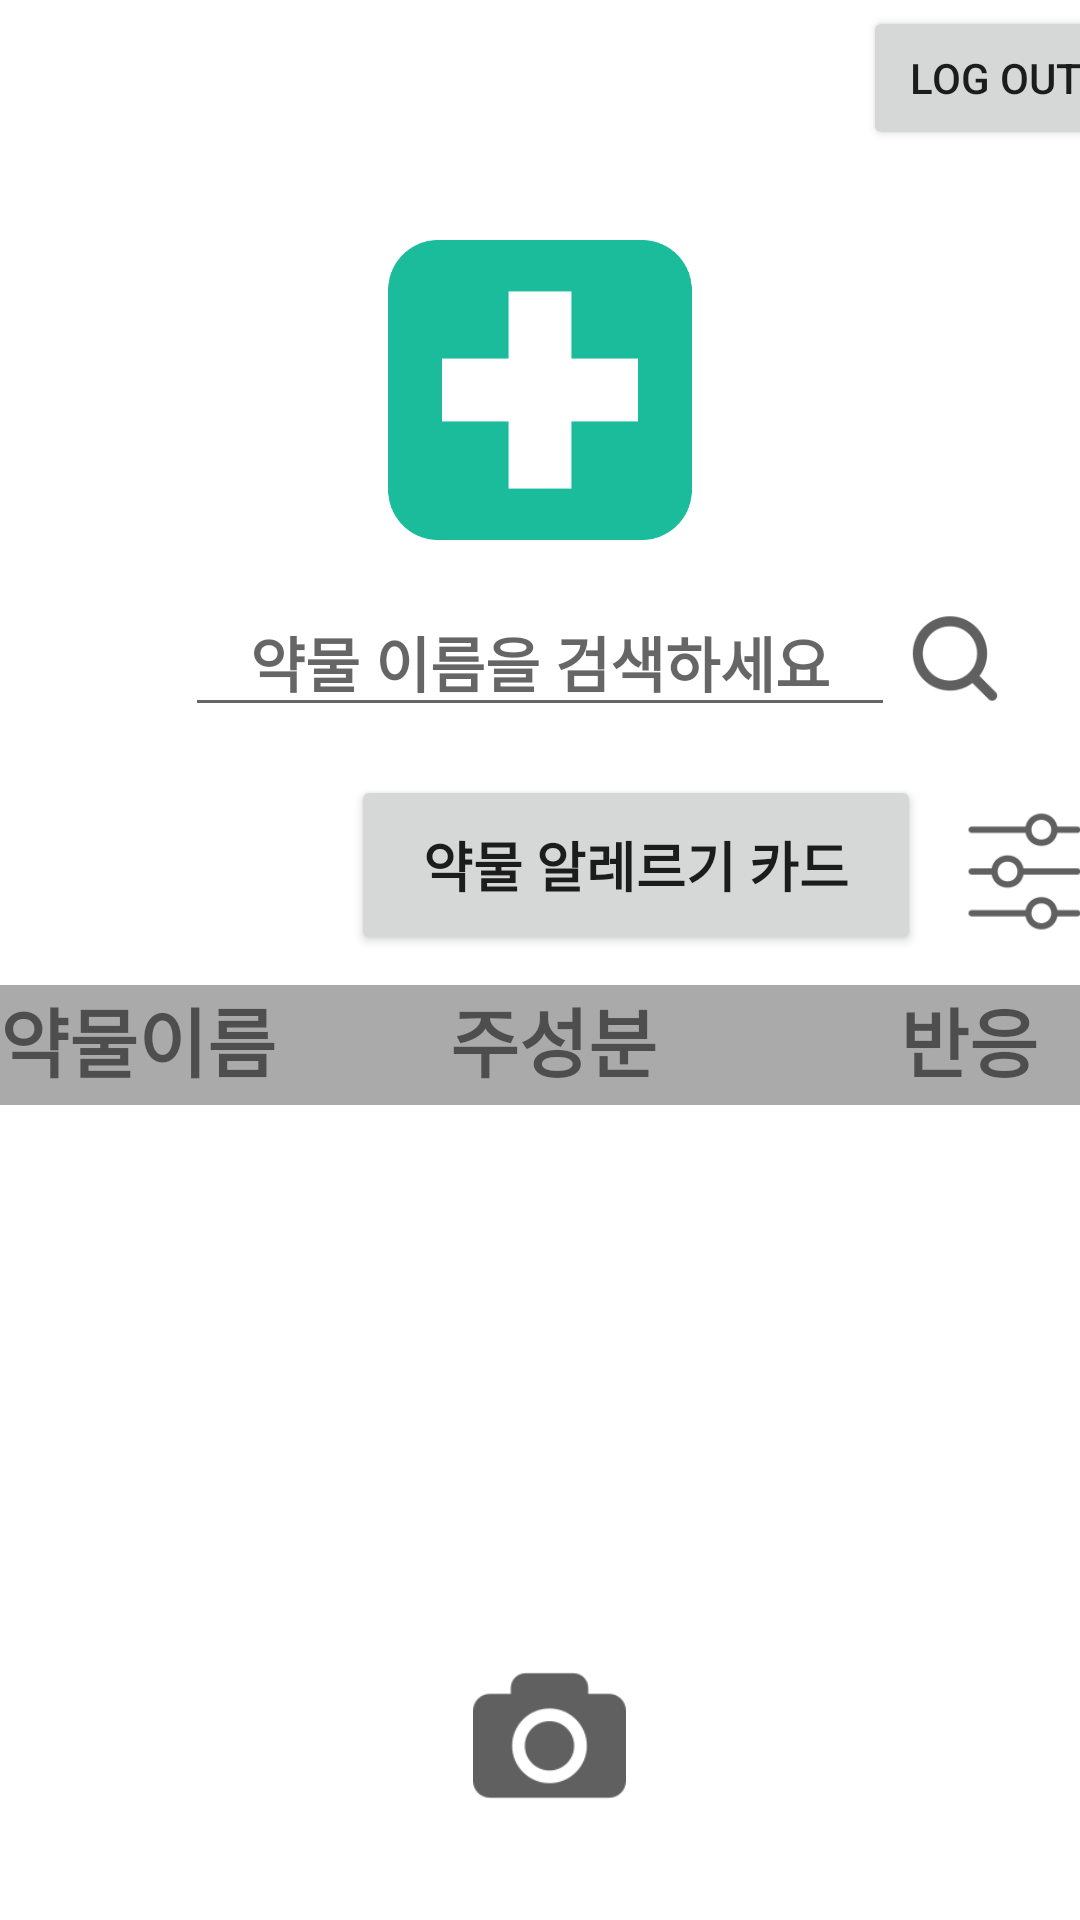

Icons on this 1080*1920 Android screen, each with its box as (x1, y1, x2, y2):
camera: (473, 1673, 626, 1798)
